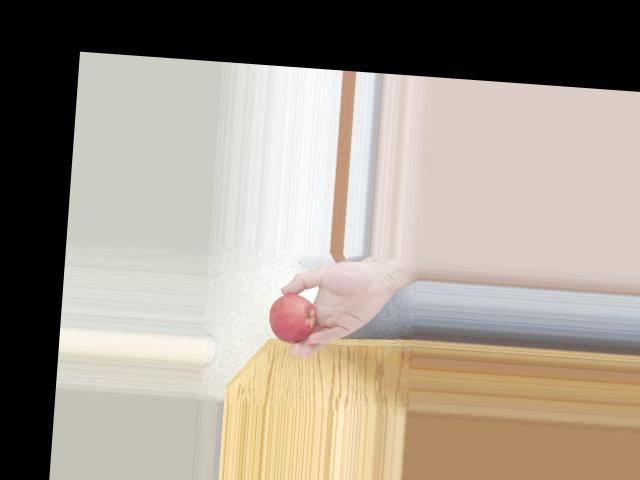apple: (264, 294, 317, 346)
